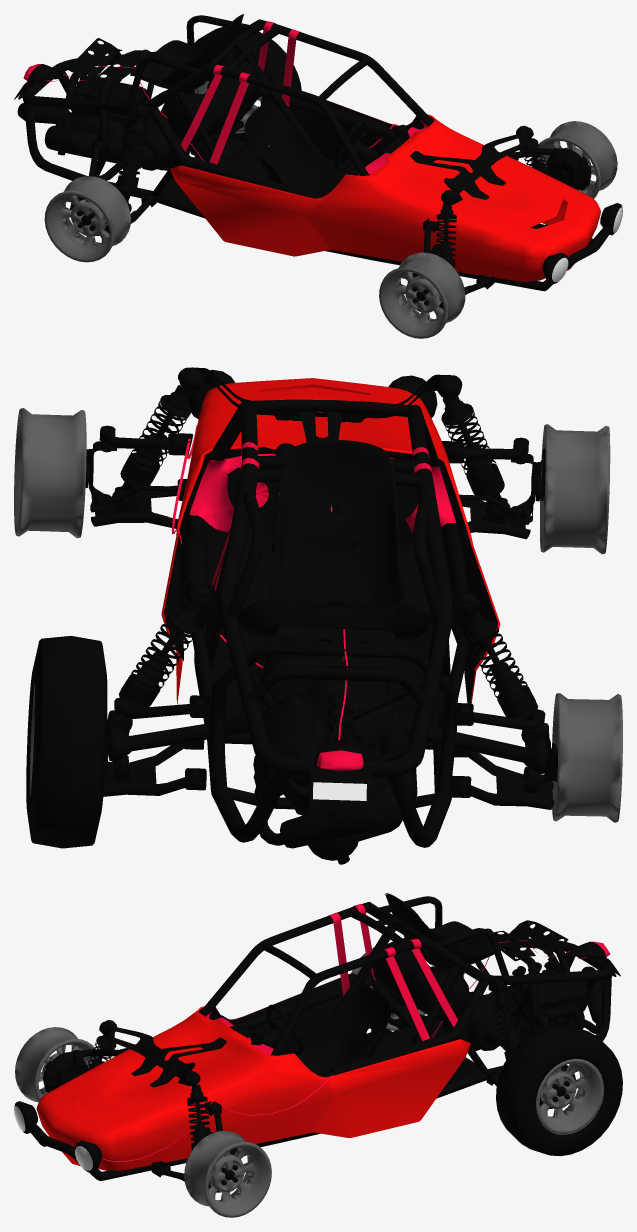
Rendered from car.fbx.
3 views of the same model, one above another, from view 1: azimuth 30°, elevation 25°; view 2: azimuth 150°, elevation 25°; view 3: azimuth 270°, elevation 25° (orthographic). The views are drawn at different scales.
Visible parts, largest first — view 1: car; view 2: car; view 3: car.
Part boxes in pixels (x1,y1,x2,y2): car: [14, 14, 622, 338]; car: [14, 367, 622, 864]; car: [14, 893, 622, 1217].
Size of the model in its own units: 6.62 by 2.76 by 7.29.
